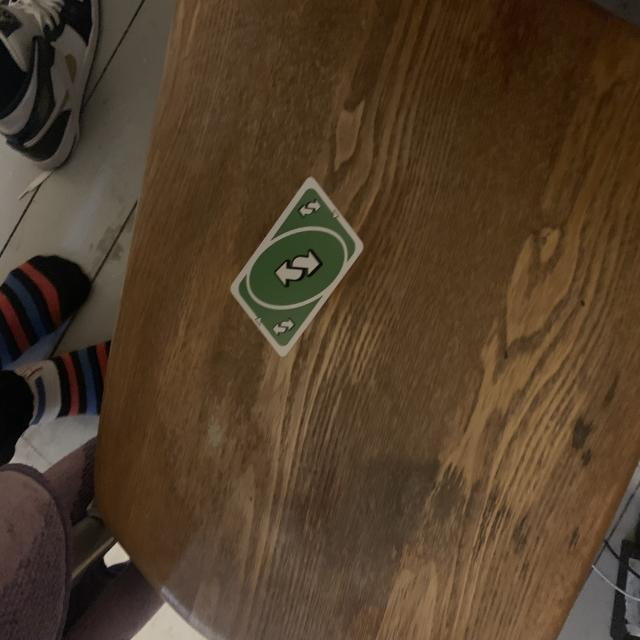lgreenrevers-20: (297, 196, 323, 221)
